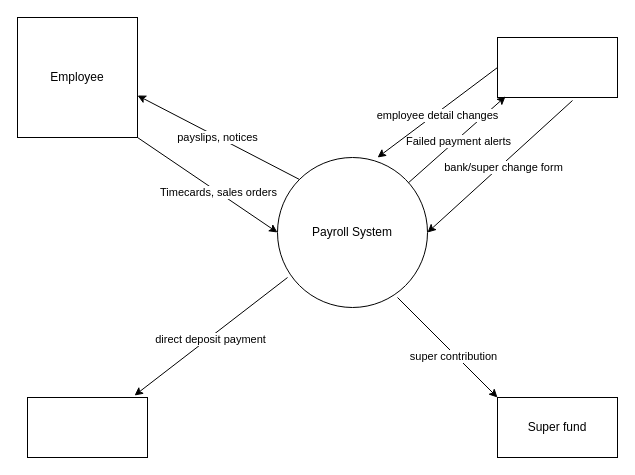
Some shapes in this 635 by 475 pixel diagram are drawn without their labels. The shapes that lost their labels are listed below. From the top down, each one's box as (x1, y1, x2, y2) in pixels, then its label:
(496, 36, 618, 98): Payroll staff
(26, 396, 148, 458): Bank
